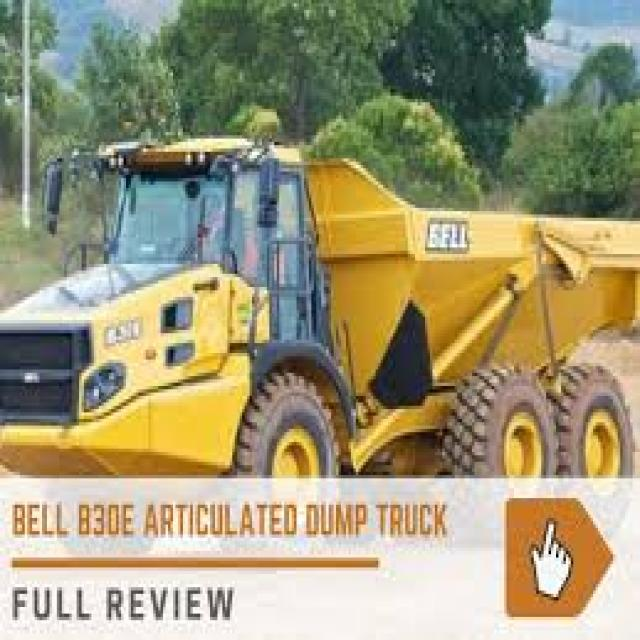dump_truck: (2, 86, 638, 472)
